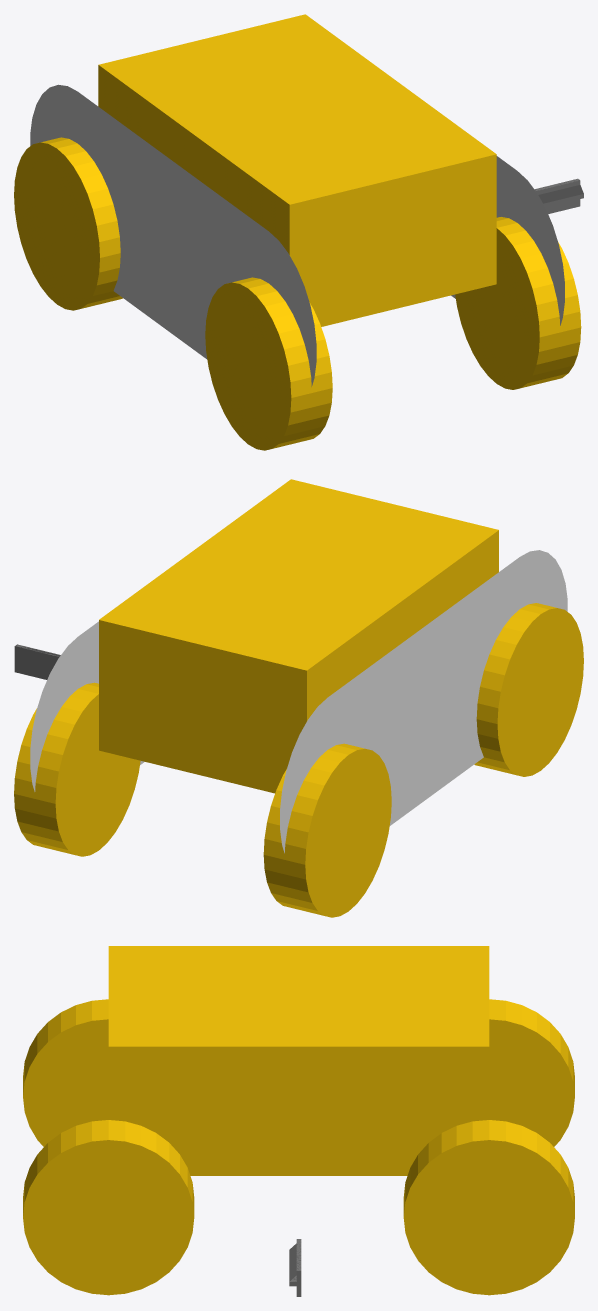
File: bulldozer_components.glb
3 views of the same model, one above another, from view 1: azimuth 30°, elevation 25°; view 2: azimuth 150°, elevation 25°; view 3: azimuth 270°, elevation 25° (orthographic).
Visible parts, largest first — view 1: Bulldozer_Body, Asset_TrackPath_L, Asset_TrackPath_R, Asset_TrackLink; view 2: Bulldozer_Body, Asset_TrackPath_L, Asset_TrackPath_R, Asset_TrackLink; view 3: Bulldozer_Body, Asset_TrackLink.
Part boxes in pixels (x1,y1,x2,y2): Bulldozer_Body: (14, 14, 581, 450); Asset_TrackPath_L: (30, 84, 316, 386); Asset_TrackPath_R: (451, 156, 564, 325); Asset_TrackLink: (534, 178, 583, 213); Bulldozer_Body: (14, 479, 583, 917); Asset_TrackPath_L: (280, 550, 567, 853); Asset_TrackPath_R: (30, 621, 144, 791); Asset_TrackLink: (14, 644, 60, 679); Bulldozer_Body: (23, 946, 574, 1295); Asset_TrackLink: (289, 1239, 301, 1296).
Size of the model in its own units: 5.15 by 2.65 by 5.99.
